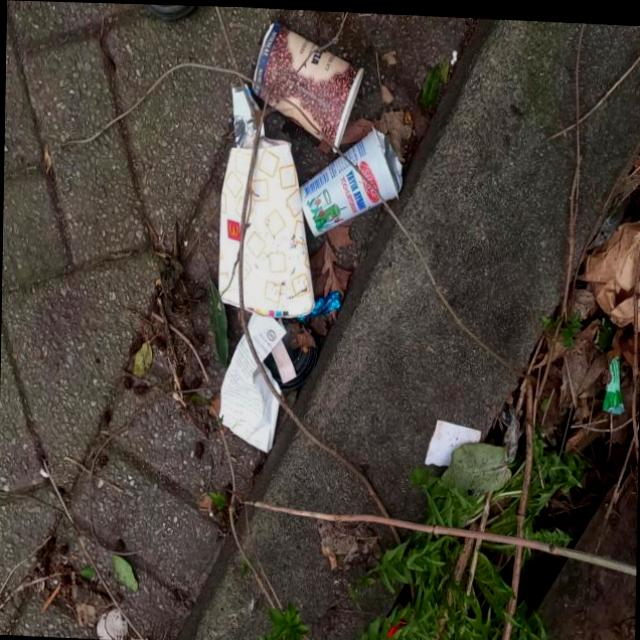Cup: (216, 136, 319, 316), (249, 16, 364, 151)
Paper: (296, 119, 402, 237), (216, 307, 286, 452)
Plastic: (424, 415, 481, 465), (229, 79, 264, 145), (296, 286, 340, 320), (600, 350, 624, 411)
